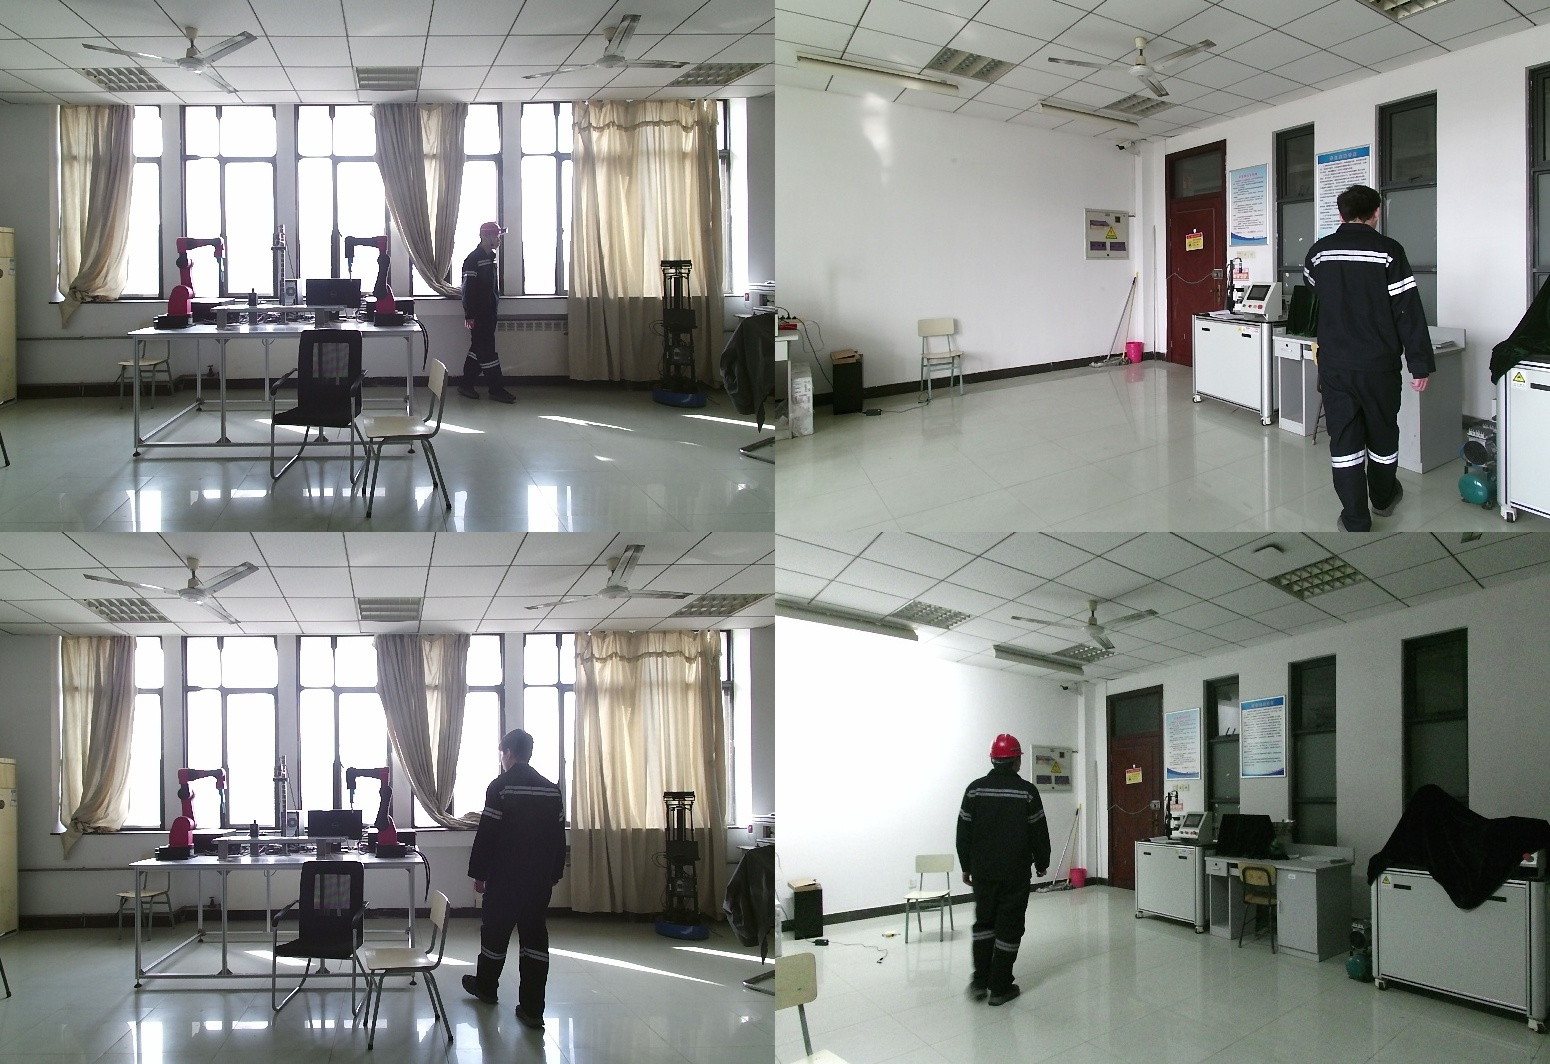person: (1299, 189, 1450, 532), (461, 732, 574, 1026), (951, 733, 1065, 1006), (462, 222, 519, 413)
